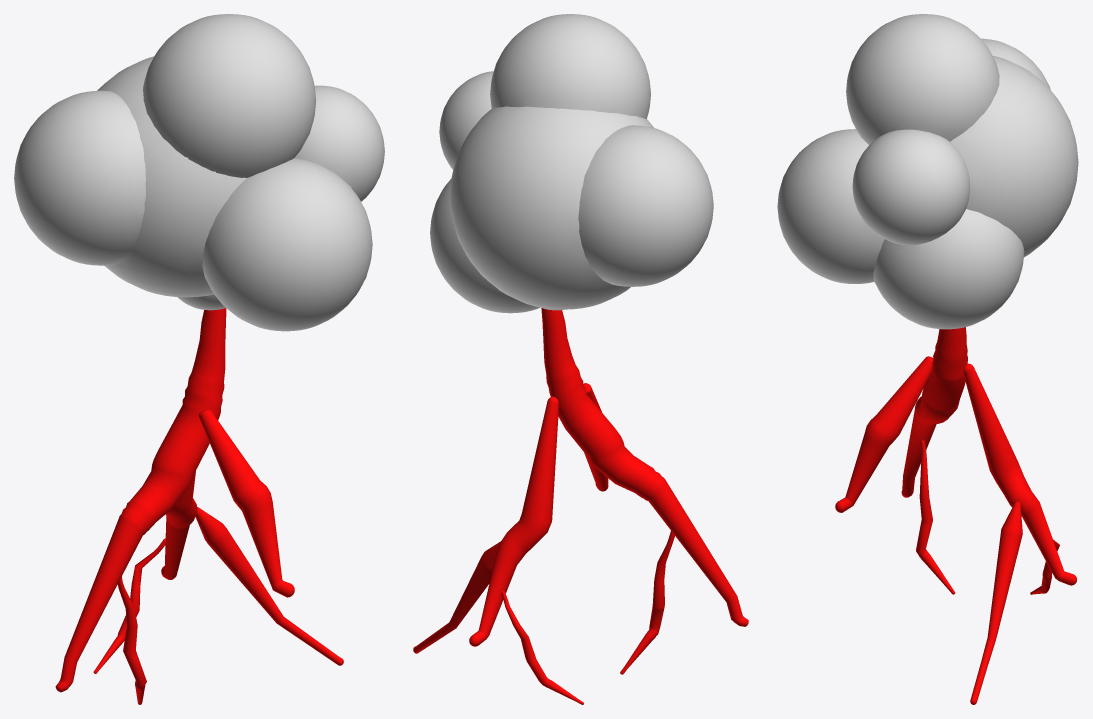
The model's file is smalltree.glb.
The picture shows the model from 3 angles, left to right: view 1: azimuth 30°, elevation 25°; view 2: azimuth 150°, elevation 25°; view 3: azimuth 270°, elevation 25°; orthographic projection. The views are drawn at different scales.
Parts seen in each view (by area): view 1: Cloudhead_HP, CloudTree_Legs_HP; view 2: Cloudhead_HP, CloudTree_Legs_HP; view 3: Cloudhead_HP, CloudTree_Legs_HP.
Part boxes in pixels (<box>): Cloudhead_HP: <box>14,14,384,331</box>; CloudTree_Legs_HP: <box>55,308,343,704</box>; Cloudhead_HP: <box>430,14,713,313</box>; CloudTree_Legs_HP: <box>413,308,748,704</box>; Cloudhead_HP: <box>777,14,1078,329</box>; CloudTree_Legs_HP: <box>835,327,1076,704</box>.
Bounding box in the file's own units: 2.53 × 5.19 × 2.27.
